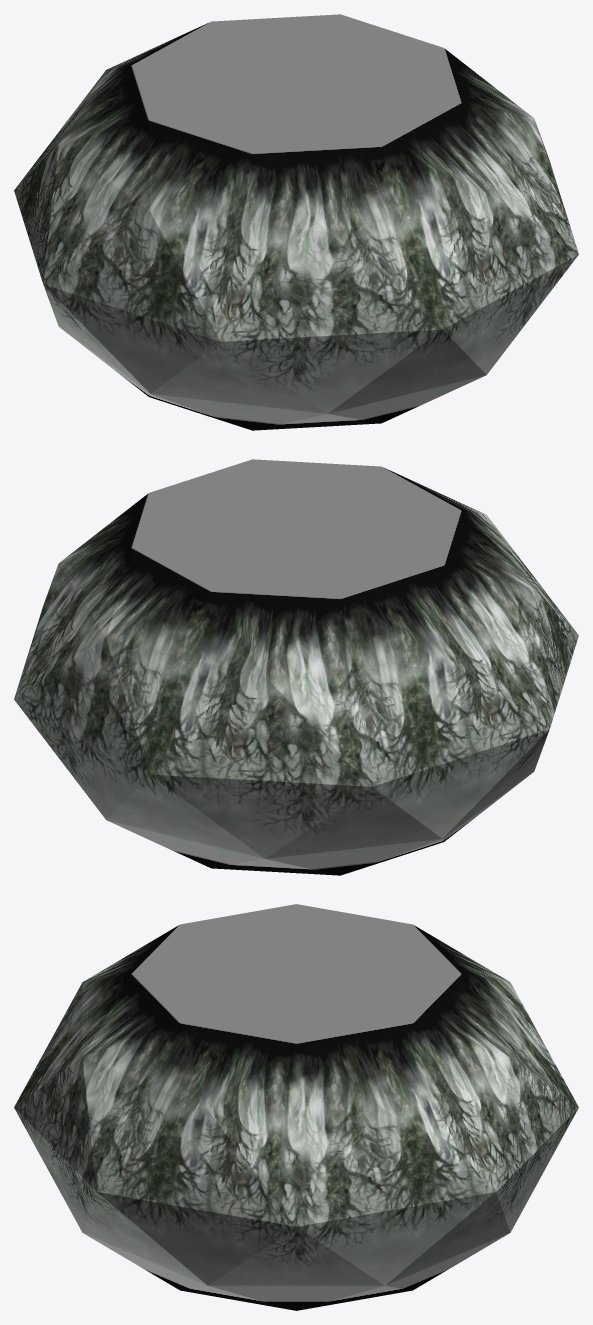
3 views of the same model, one above another, from view 1: azimuth 30°, elevation 25°; view 2: azimuth 150°, elevation 25°; view 3: azimuth 270°, elevation 25° (orthographic). The views are drawn at different scales.
Parts seen in each view (by area): view 1: world_root; view 2: world_root; view 3: world_root.
Part boxes in pixels (left/top/right/bottom): world_root: left=14, top=14, right=578, bottom=430; world_root: left=14, top=459, right=578, bottom=875; world_root: left=14, top=904, right=578, bottom=1310.
Bounding box in the file's own units: 117964 × 61688 × 117964.
Materials: 1 (1 with a texture image).
